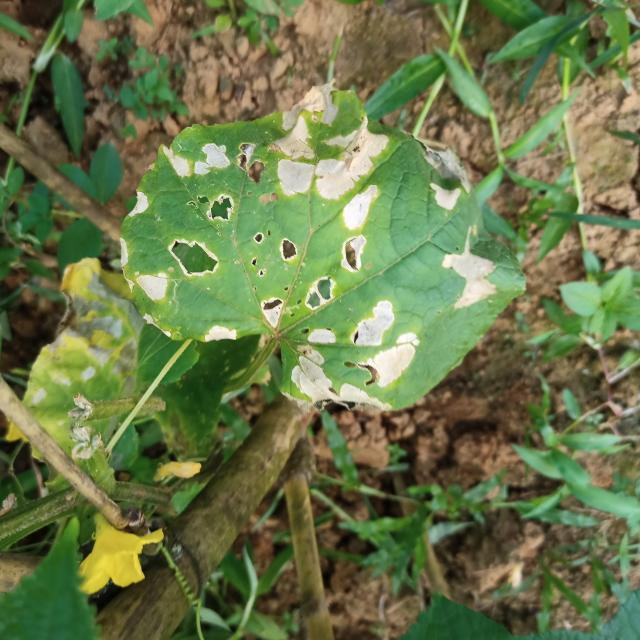disease_cucumber: (121, 93, 502, 384)
